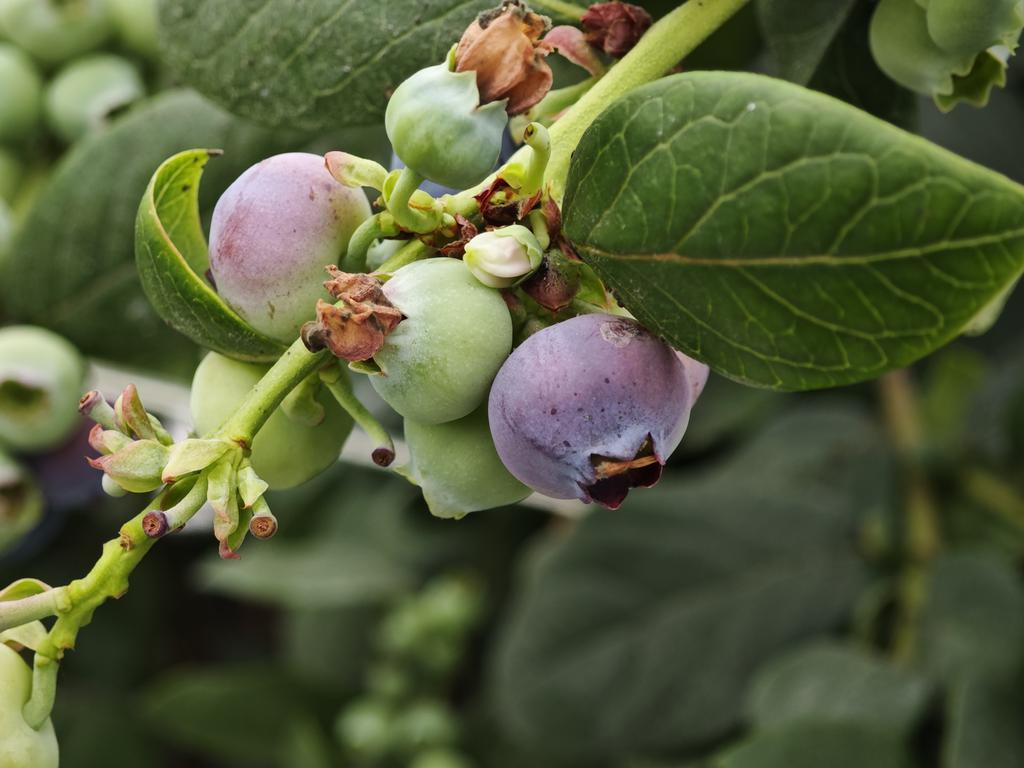Semi-RipeBlueBerry: (487, 309, 693, 506), (205, 152, 372, 340)
UnripeBlueBerry: (345, 253, 514, 424)
